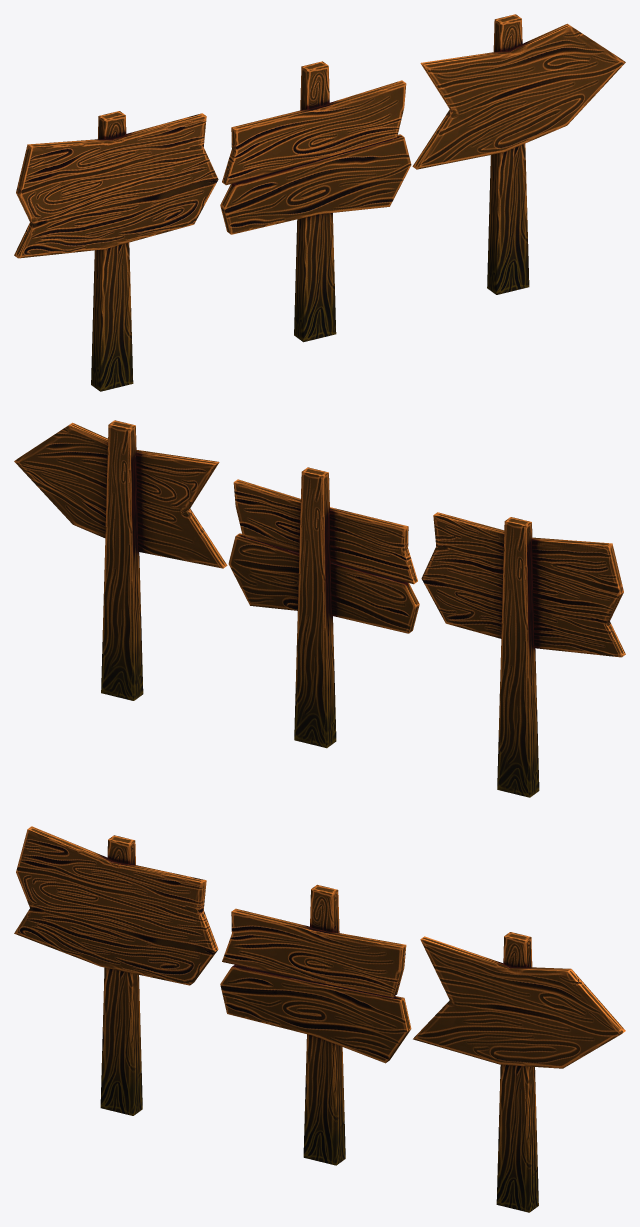
File: letrero.glb
The picture shows the model from 3 angles, top to bottom: view 1: azimuth 30°, elevation 25°; view 2: azimuth 150°, elevation 25°; view 3: azimuth 330°, elevation 25°; orthographic projection.
Parts seen in each view (by area): view 1: sign1, sign2, sign3; view 2: sign1, sign2, sign3; view 3: sign1, sign2, sign3.
Part boxes in pixels (box(x1,y1,x2,y2)): sign1: box(14, 111, 218, 391); sign2: box(220, 61, 411, 342); sign3: box(412, 14, 625, 294); sign1: box(421, 512, 625, 797); sign2: box(228, 467, 419, 748); sign3: box(14, 420, 227, 700); sign1: box(14, 826, 218, 1115); sign2: box(220, 884, 411, 1165); sign3: box(413, 932, 625, 1212).
Size of the model in its own units: 4.06 by 1.72 by 0.1344.
Materials: 1 (1 with a texture image).
